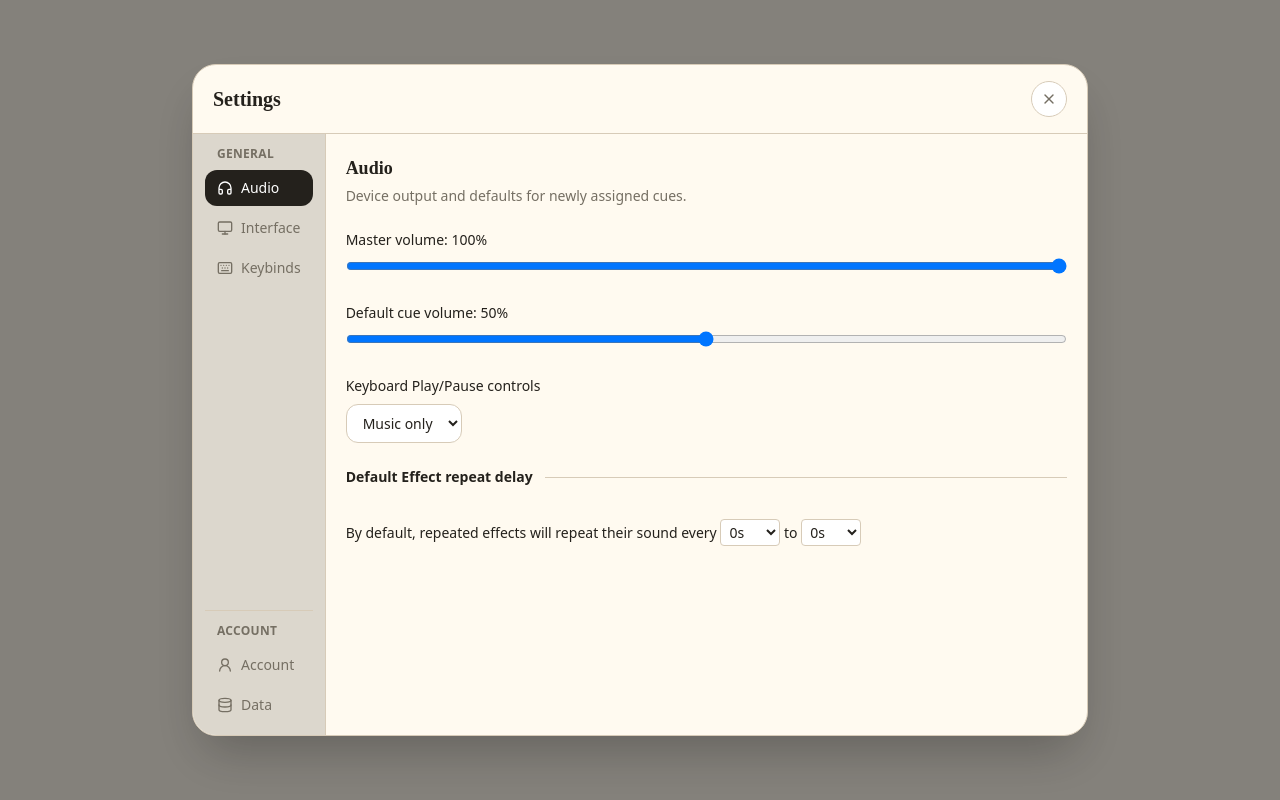
SettingsModal local reset › defaults image compression to none and explains the selected strategy
Click the tab "Data".
click(259, 705)  # box [205,687,313,723]
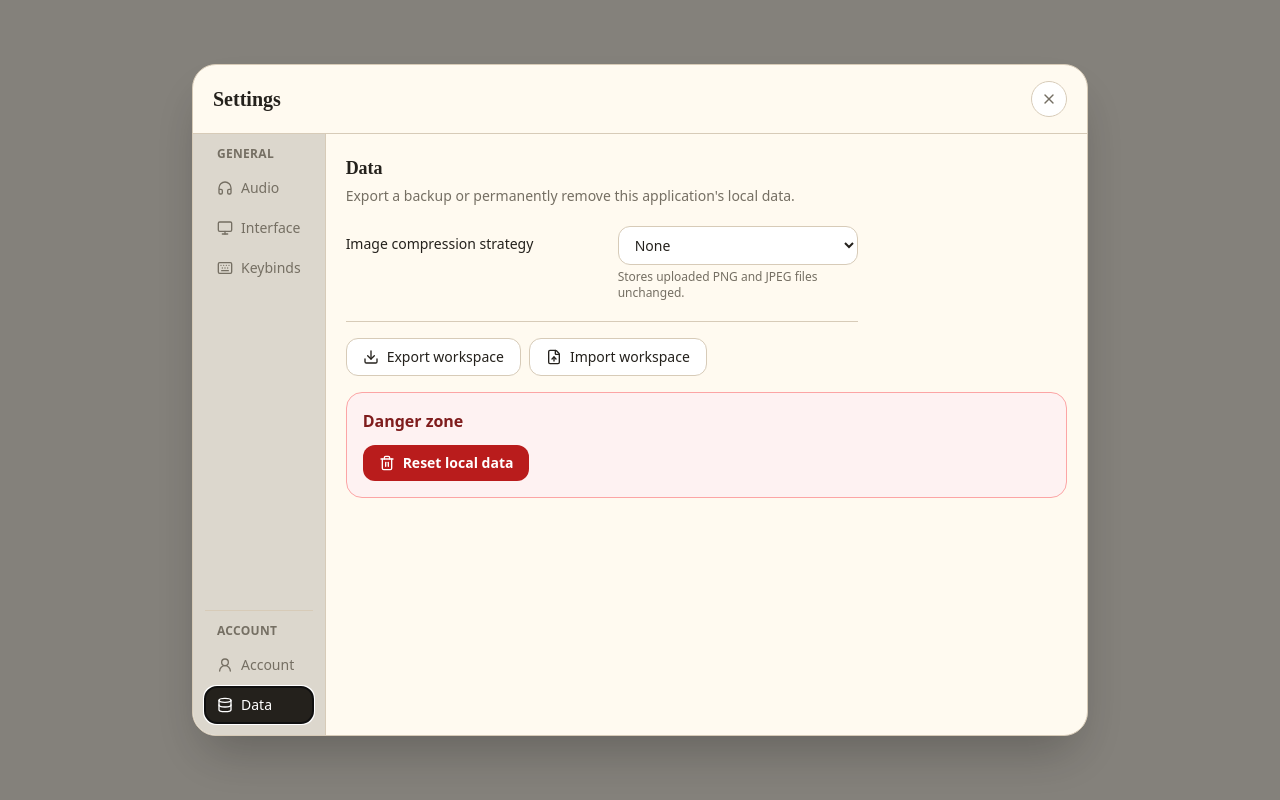
Expected: the dropdown labelled "Image compression strategy" shows "None"
Expected: the text "Stores uploaded PNG and JPEG files unchanged." is shown, [618,268,818,301]
Select "WebP (maximum quality)" in the dropdown labelled "Image compression strategy" at (738, 246), box [618,226,858,265]
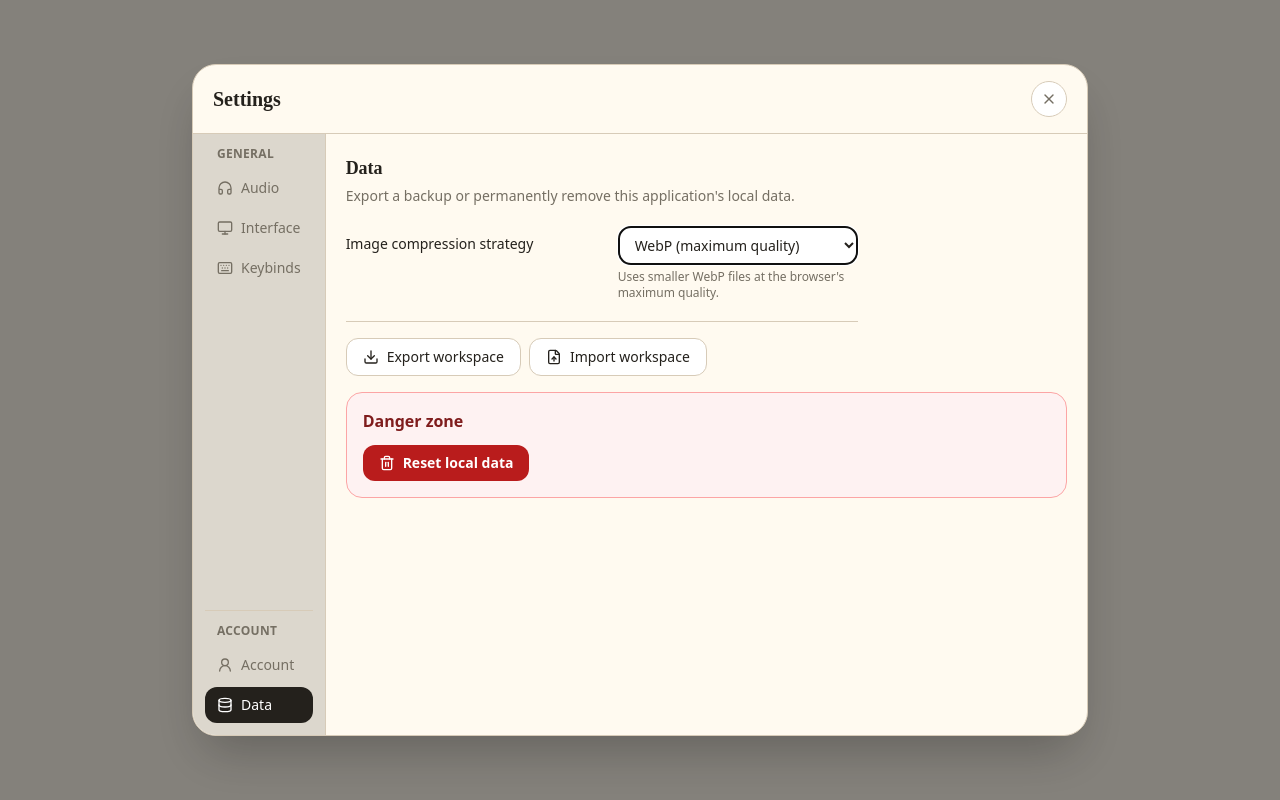
Expected: the text "Uses smaller WebP files at the browser's maximum quality." is shown, [618,269,858,301]
